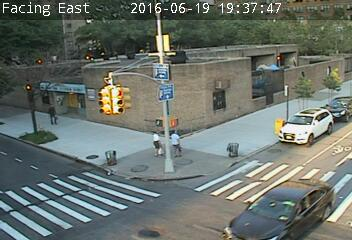neg: (289, 162, 310, 190), (266, 120, 286, 147), (311, 39, 331, 66), (162, 49, 182, 75), (232, 190, 251, 216), (23, 167, 42, 193), (106, 76, 124, 101), (195, 69, 213, 93), (124, 170, 142, 193), (269, 68, 286, 91), (55, 44, 72, 66), (232, 79, 248, 100), (165, 194, 181, 215), (95, 144, 110, 165), (231, 134, 246, 154), (82, 196, 96, 214), (221, 30, 234, 48), (98, 32, 111, 49)
pos: (166, 129, 188, 158), (143, 130, 164, 157), (45, 102, 63, 127)
